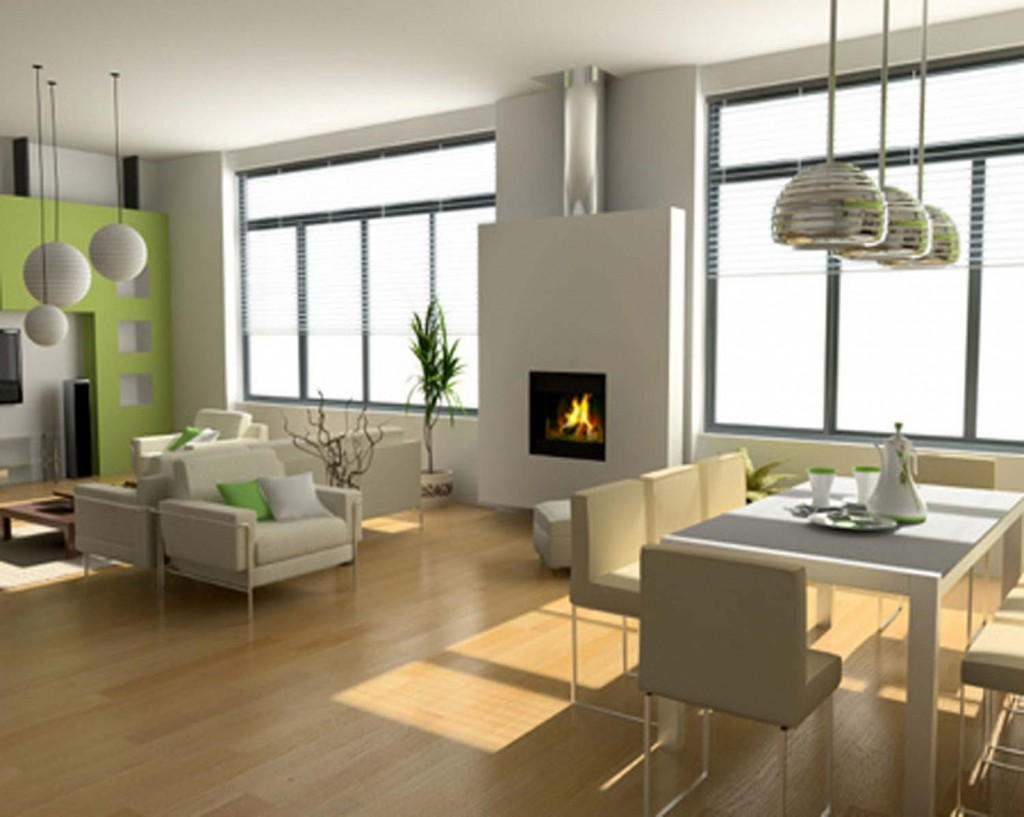bantal: (262, 472, 331, 520), (219, 483, 271, 519)
gelas: (807, 462, 836, 512), (853, 464, 882, 506)
kursi: (632, 554, 850, 817), (556, 449, 774, 712), (171, 451, 369, 606)
lampu: (775, 1, 962, 273), (16, 60, 146, 357)
meja: (653, 475, 1020, 817)
tanaman: (399, 305, 467, 513)
